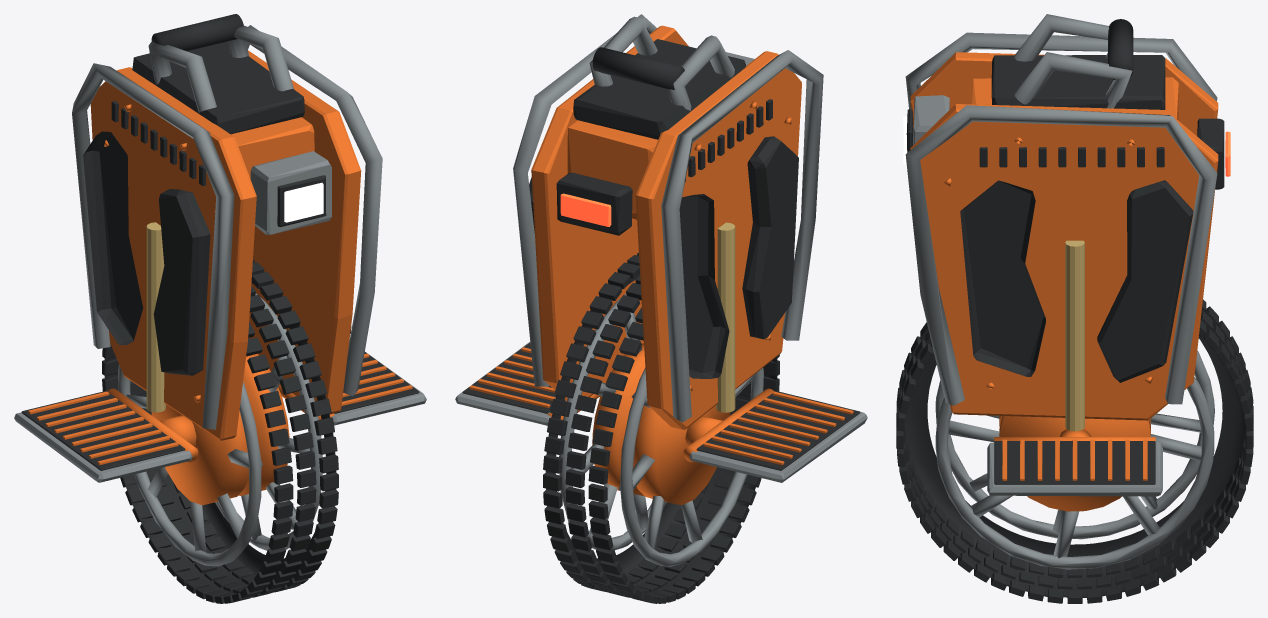
The model's file is Euc_trail.glb.
The picture shows the model from 3 angles, left to right: view 1: azimuth 30°, elevation 25°; view 2: azimuth 150°, elevation 25°; view 3: azimuth 270°, elevation 25°; orthographic projection.
Parts seen in each view (by area): view 1: Tire_Staggered_Tread, SideShell_-1, SideShell_1, CrashRail_-1, PowerPad_Front_-1, PowerPad_Rear_-1, Top_Cushion, CrashRail_1, Pedal_Grip_-1, Motor_Cover_-1, Rim_Ring_-1, Pedal_L_Pivot_Pedal_Ridge_Set (+19 smaller); view 2: Tire_Staggered_Tread, SideShell_-1, SideShell_1, CrashRail_-1, PowerPad_Front_-1, Top_Cushion, PowerPad_Rear_-1, CrashRail_1, Motor_Cover_-1, Upper_Chassis, Rim_Ring_-1, Pedal_Grip_-1 (+18 smaller); view 3: SideShell_1, Tire_Staggered_Tread, CrashRail_1, PowerPad_Front_1, PowerPad_Rear_1, Tire_Carcass, Rim_Ring_1, Top_Cushion, Pedal_Grip_1, SideShell_-1, CrashRail_-1, Wheel_Pivot_Rim_Spoke_Set (+13 smaller).
Boxes of the visible parts, x1,y1,x2,y2 form: Tire_Staggered_Tread: [102, 259, 338, 603]; SideShell_-1: [90, 67, 256, 440]; SideShell_1: [248, 50, 361, 414]; CrashRail_-1: [72, 63, 234, 429]; PowerPad_Front_-1: [153, 189, 210, 375]; PowerPad_Rear_-1: [83, 131, 143, 345]; Top_Cushion: [132, 41, 304, 134]; CrashRail_1: [246, 25, 382, 396]; Pedal_Grip_-1: [21, 391, 185, 470]; Motor_Cover_-1: [151, 404, 248, 505]; Rim_Ring_-1: [118, 364, 261, 566]; Pedal_L_Pivot_Pedal_Ridge_Set: [28, 391, 178, 464]; Tire_Staggered_Tread: [543, 252, 779, 603]; SideShell_-1: [635, 51, 801, 429]; SideShell_1: [531, 25, 688, 400]; CrashRail_-1: [661, 50, 823, 422]; PowerPad_Front_-1: [742, 136, 798, 339]; Top_Cushion: [573, 39, 745, 139]; PowerPad_Rear_-1: [679, 194, 729, 378]; CrashRail_1: [513, 14, 656, 386]; Motor_Cover_-1: [633, 405, 730, 505]; Upper_Chassis: [567, 120, 657, 219]; Rim_Ring_-1: [620, 368, 763, 566]; Pedal_Grip_-1: [696, 391, 860, 470]; SideShell_1: [910, 104, 1218, 420]; Tire_Staggered_Tread: [896, 299, 1253, 603]; CrashRail_1: [905, 105, 1217, 405]; PowerPad_Front_1: [960, 180, 1045, 376]; PowerPad_Rear_1: [1097, 180, 1193, 382]; Tire_Carcass: [904, 334, 1245, 597]; Rim_Ring_1: [935, 377, 1214, 569]; Top_Cushion: [991, 55, 1165, 109]; Pedal_Grip_1: [994, 441, 1155, 484]; SideShell_-1: [910, 52, 1218, 135]; CrashRail_-1: [905, 32, 1217, 145]; Wheel_Pivot_Rim_Spoke_Set: [948, 413, 1201, 558].
Size of the model in its own units: 0.5477 by 0.8718 by 0.5089.
